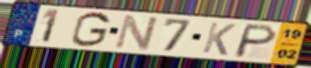1: (40, 8, 61, 45)
7: (160, 17, 196, 54)
G: (69, 11, 112, 49)
K: (200, 20, 238, 57)
N: (112, 13, 161, 52)
P: (231, 22, 280, 59)
